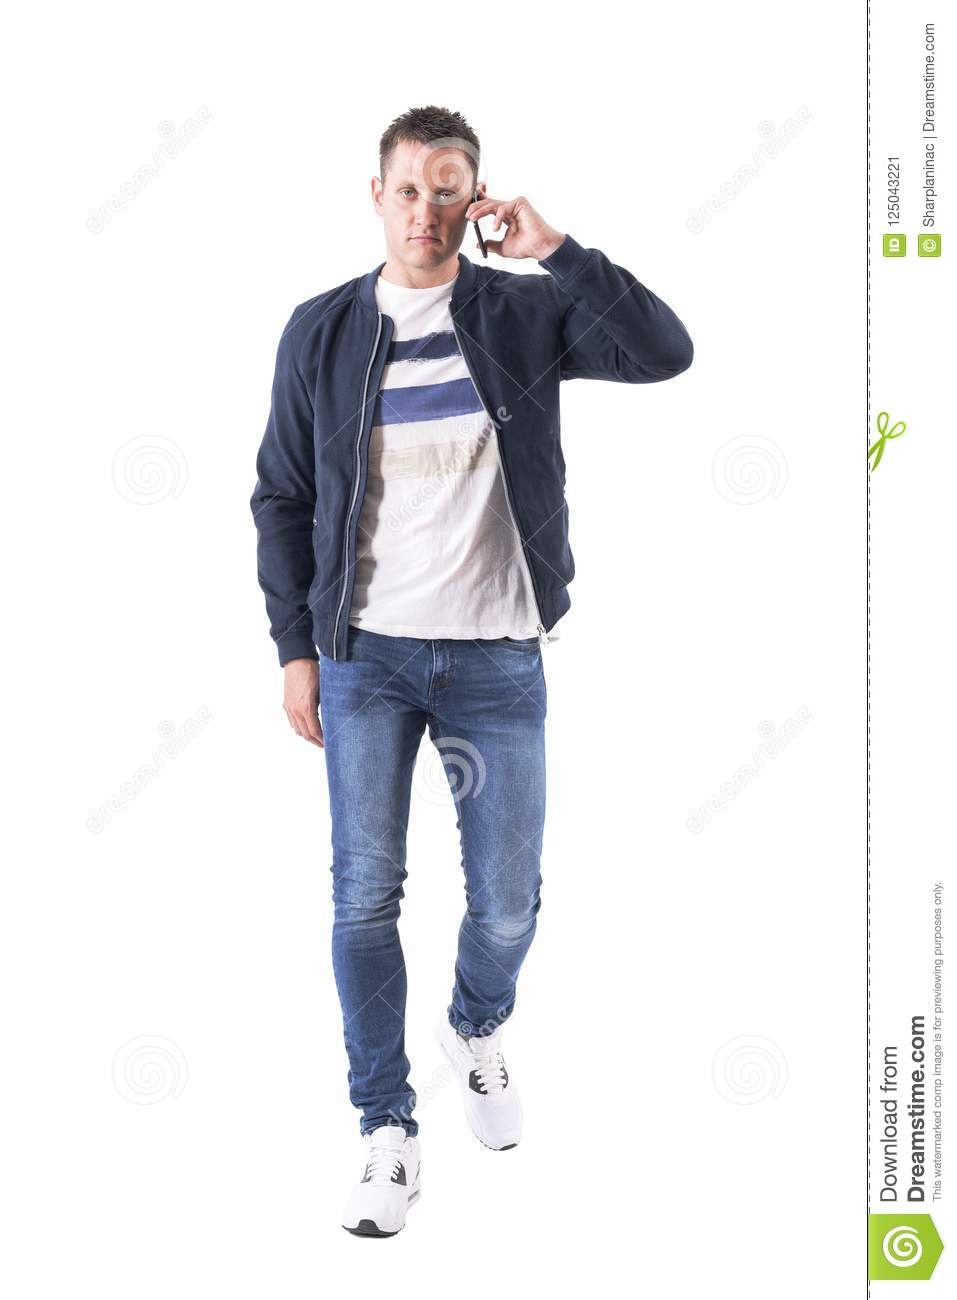phone: (471, 184, 494, 262)
talk: (384, 170, 547, 272)
